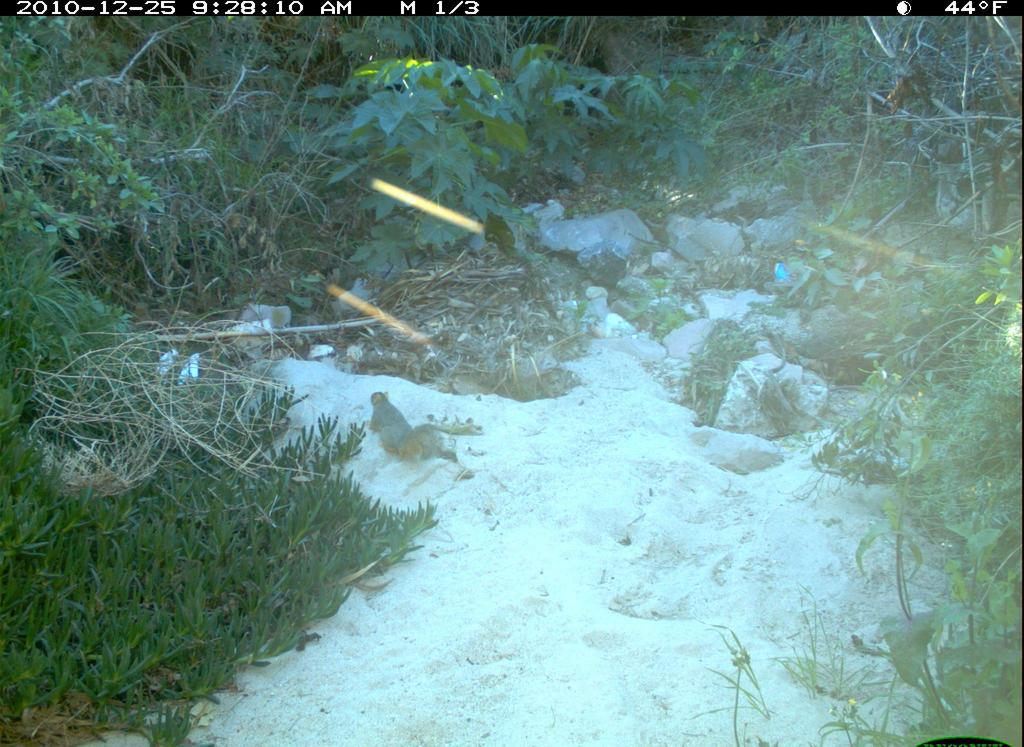squirrel: (350, 379, 460, 489)
